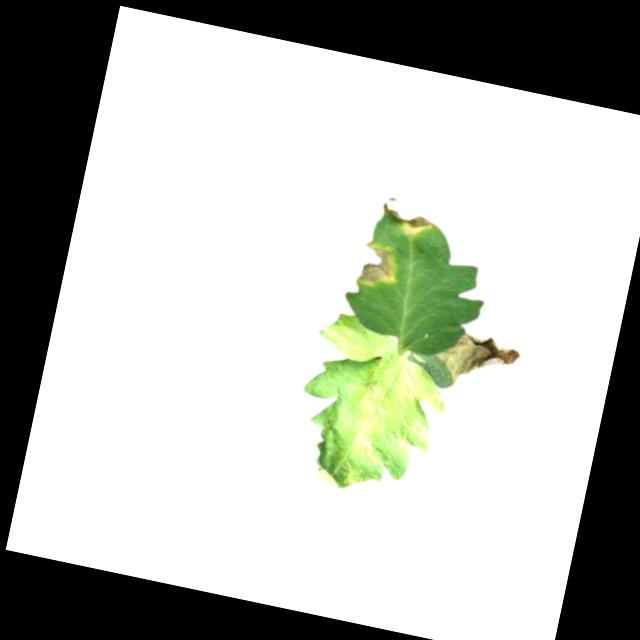Late_blight: (430, 322, 526, 397), (353, 239, 403, 294), (379, 195, 438, 240), (355, 373, 386, 401), (336, 461, 363, 490), (355, 435, 378, 461)
